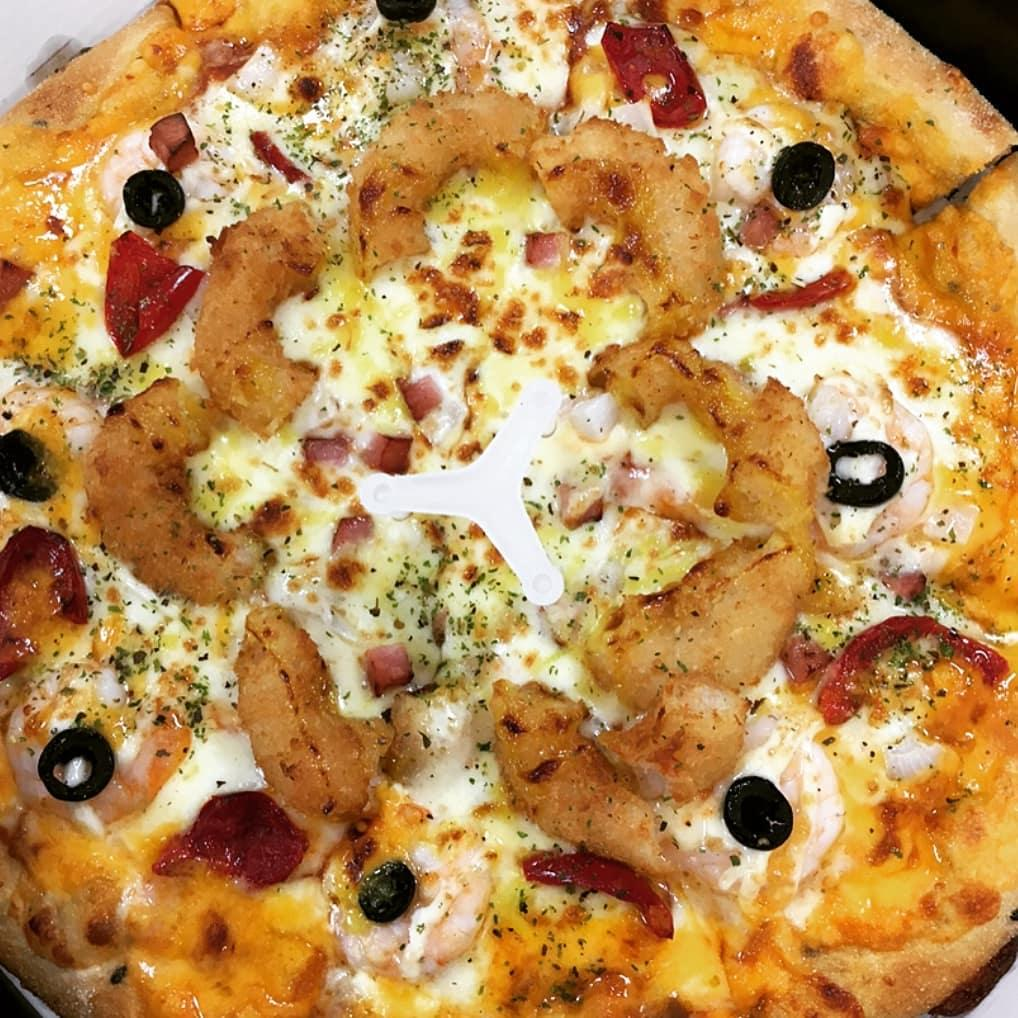Chicken: (70, 369, 292, 615), (530, 102, 737, 355), (585, 337, 840, 539), (573, 526, 818, 722), (337, 77, 557, 273), (479, 674, 676, 880), (214, 600, 396, 819), (184, 178, 329, 439), (598, 665, 757, 807)
Ham: (353, 631, 421, 699), (733, 188, 794, 255), (319, 505, 386, 561), (551, 466, 609, 526), (773, 627, 832, 685), (357, 425, 420, 478), (135, 114, 207, 160), (866, 559, 932, 609), (288, 417, 359, 463), (517, 221, 580, 265), (0, 246, 37, 318), (394, 363, 443, 415), (197, 40, 256, 76)
Olives: (819, 417, 904, 521), (763, 126, 848, 227), (29, 720, 123, 808), (717, 769, 802, 860), (112, 152, 194, 241), (0, 414, 68, 507), (356, 856, 418, 927), (367, 0, 442, 27)
Peppers: (814, 610, 1014, 730), (146, 784, 315, 892), (92, 224, 212, 365), (0, 516, 99, 681), (518, 842, 677, 943), (591, 16, 710, 135), (744, 266, 857, 320), (245, 120, 318, 191)
Pizza: (0, 0, 1018, 1018)
